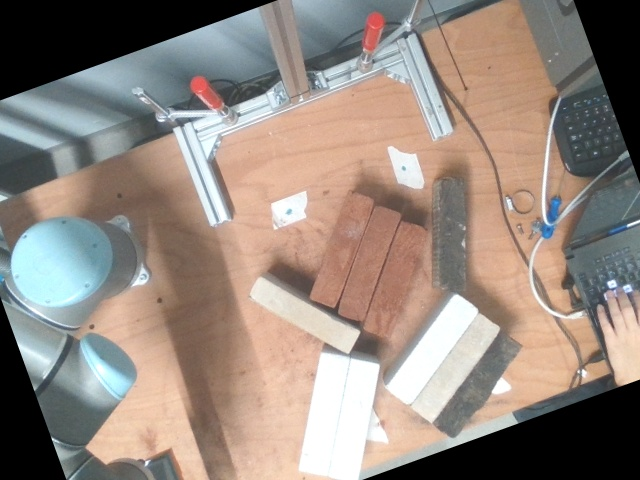brick-side: (390, 297, 476, 402), (413, 315, 499, 419), (435, 334, 519, 437), (251, 281, 356, 351), (314, 194, 372, 304), (339, 208, 397, 317), (365, 223, 423, 332), (330, 362, 376, 479), (301, 357, 347, 472), (443, 181, 464, 289)
